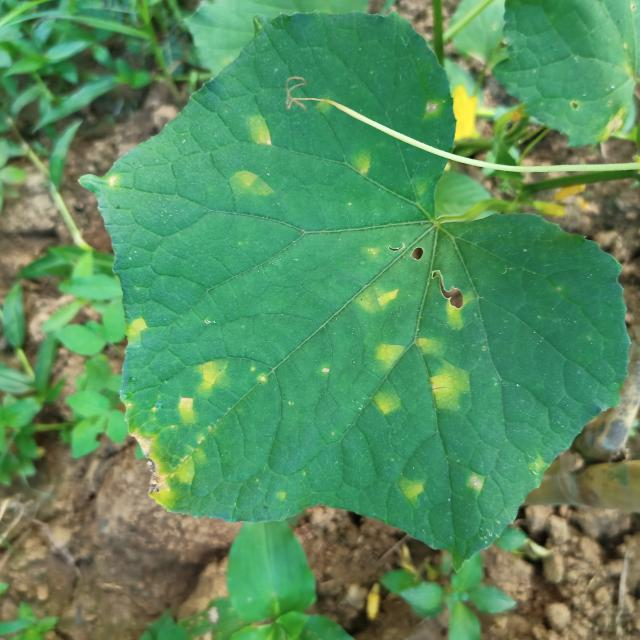disease_cucumber: (354, 242, 487, 445), (126, 359, 240, 511), (229, 102, 281, 209), (344, 132, 384, 192), (396, 471, 430, 512), (120, 315, 153, 351)
